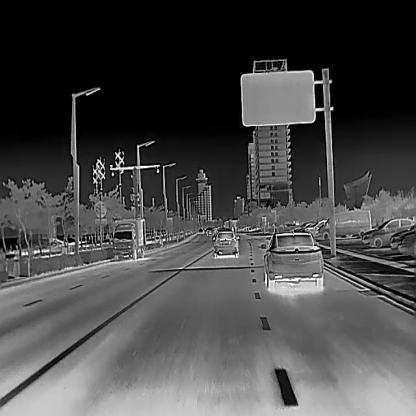car: (260, 229, 323, 289), (361, 218, 414, 248), (321, 209, 371, 239), (111, 218, 146, 260), (212, 231, 239, 258), (390, 223, 416, 248), (398, 229, 415, 255), (305, 219, 329, 236)
